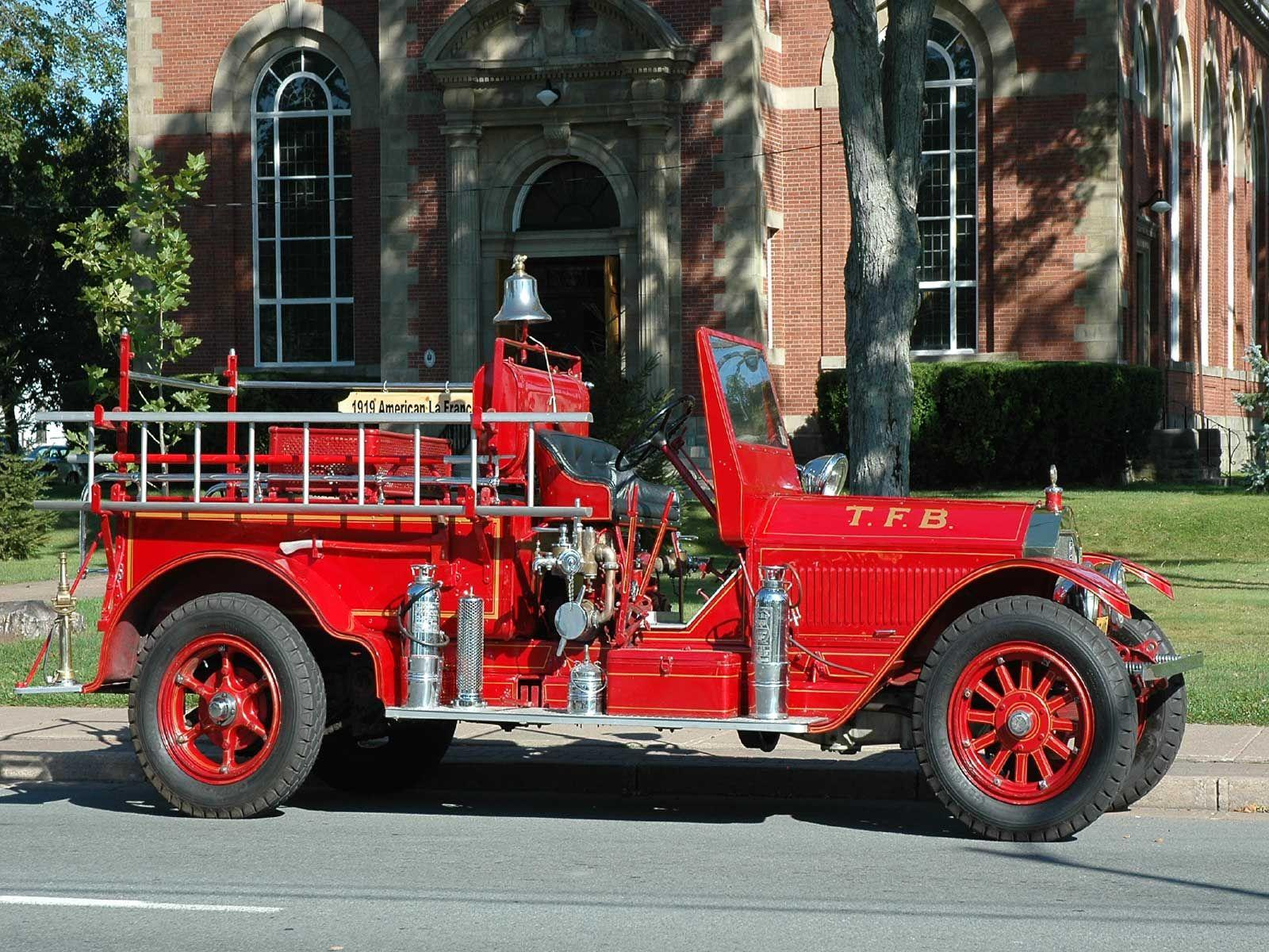Fire-engine: (17, 263, 1202, 843)
